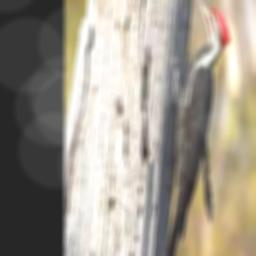Woodpecker: (162, 0, 231, 256)
